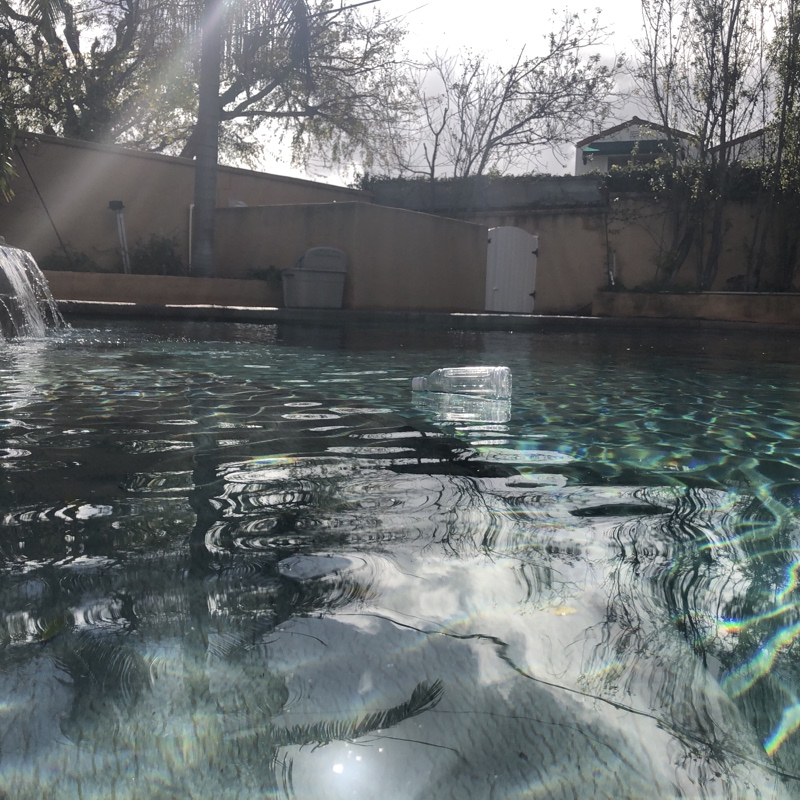Plastic Bottle: (404, 357, 514, 405)
